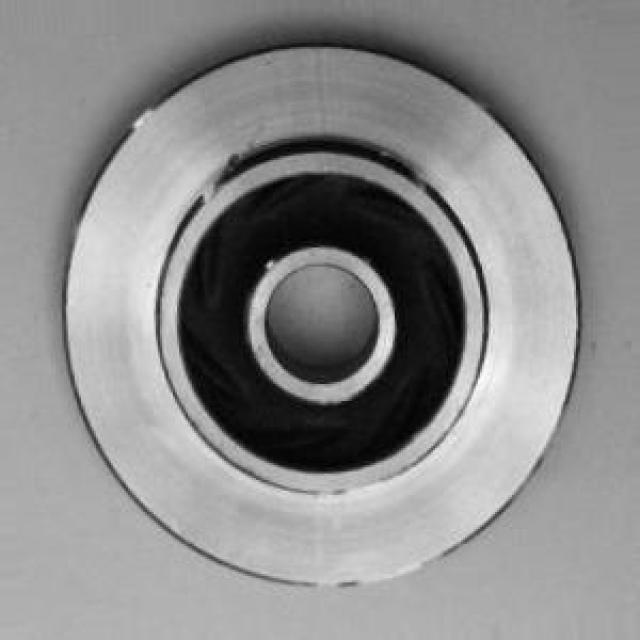Defect: (188, 160, 249, 204)
